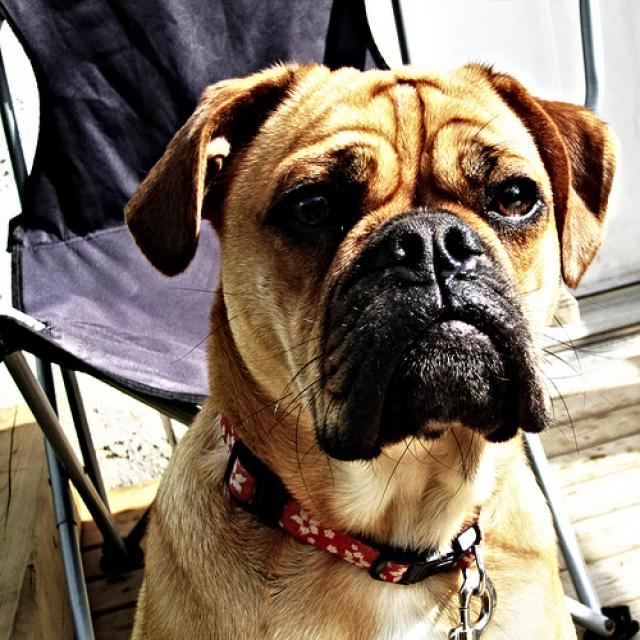dog-pug: (118, 50, 622, 637)
